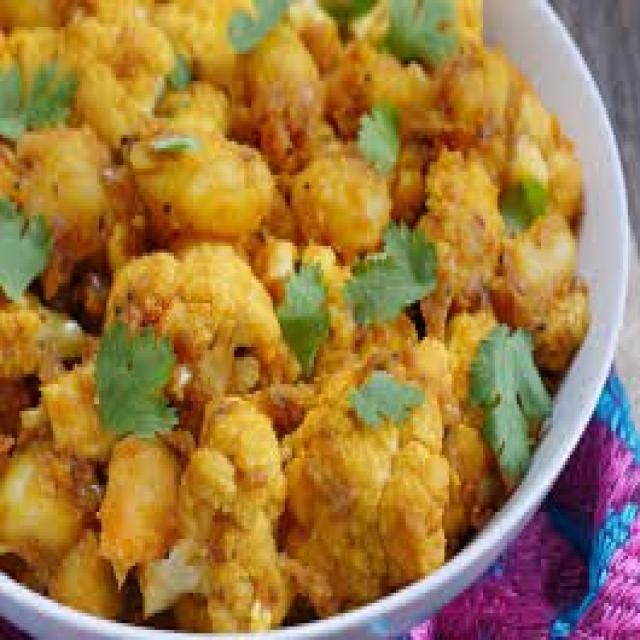cauliflower: (3, 7, 623, 632)
